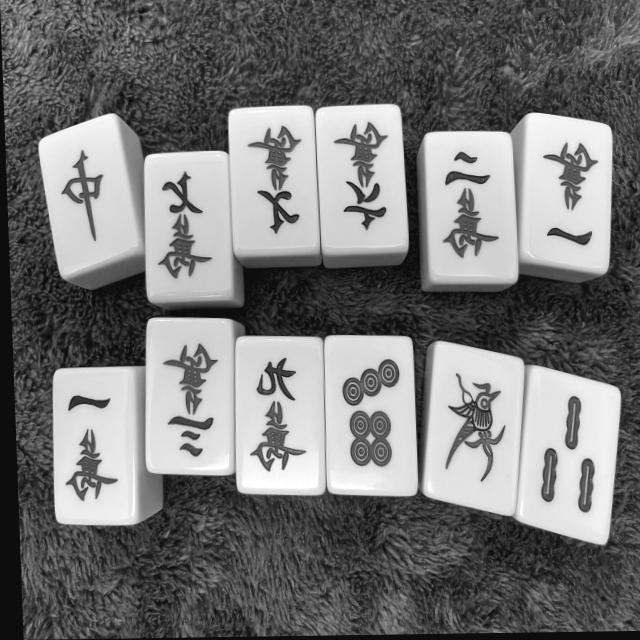m1: (514, 112, 614, 275), (50, 367, 144, 527)
m2: (421, 135, 515, 285)
m3: (138, 319, 234, 476)
m6: (316, 107, 405, 250)
m7: (229, 112, 321, 257), (144, 150, 235, 295)
m9: (233, 338, 327, 493)
s1: (412, 340, 528, 520)
s3: (509, 364, 630, 549)
t7: (323, 333, 417, 495)
zhong: (37, 116, 139, 278)
